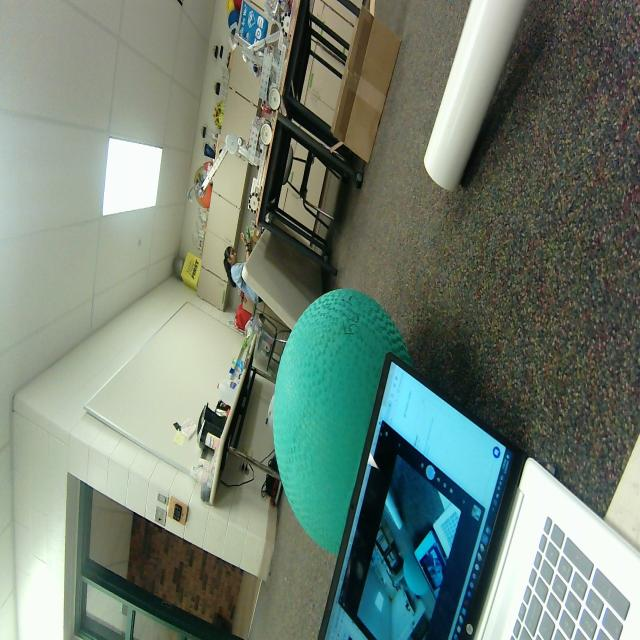algae: (271, 288, 412, 554)
coral: (423, 0, 528, 190)
